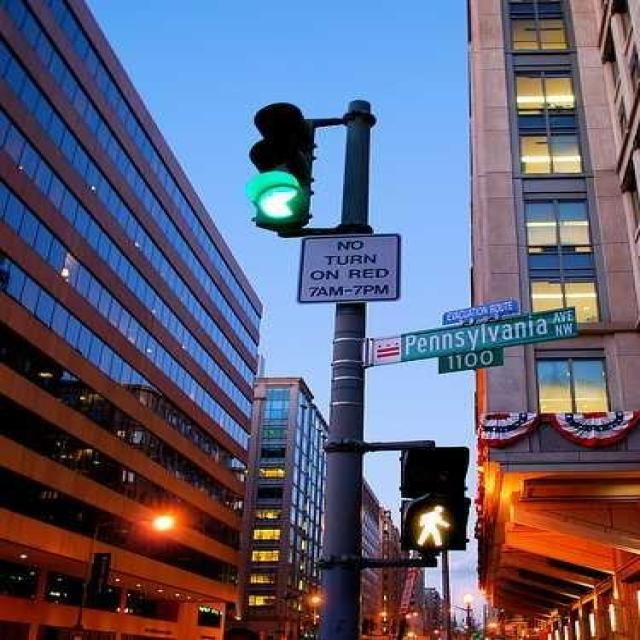Traffic Light -Green-: (247, 97, 316, 232)
